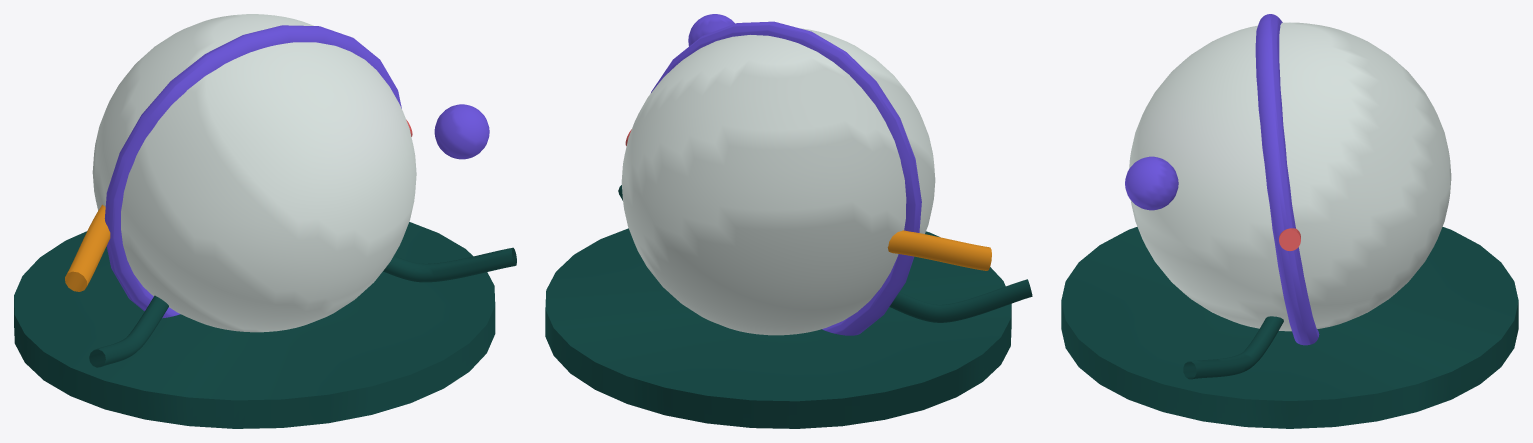
File: 0424_微生物图鉴_新冠病毒.glb
3 renders of one model, left to right at view 1: azimuth 30°, elevation 25°; view 2: azimuth 150°, elevation 25°; view 3: azimuth 270°, elevation 25°, orthographic. The views are drawn at different scales.
Visible parts, largest first — view 1: card_0424; view 2: card_0424; view 3: card_0424.
Part boxes in pixels (x1,y1,x2,y2): card_0424: (14,14,516,428); card_0424: (545,14,1032,428); card_0424: (1061,14,1518,428).
Bounding box in the file's own units: 1.42 × 1 × 1.35.
